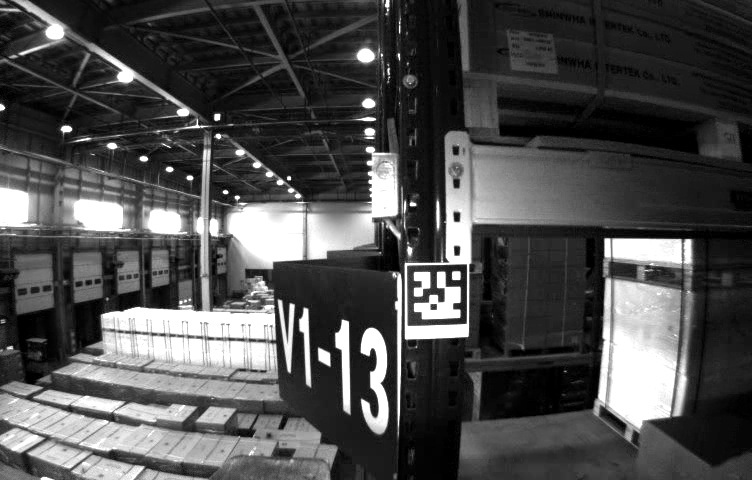True Barcode: (505, 29, 561, 75)
